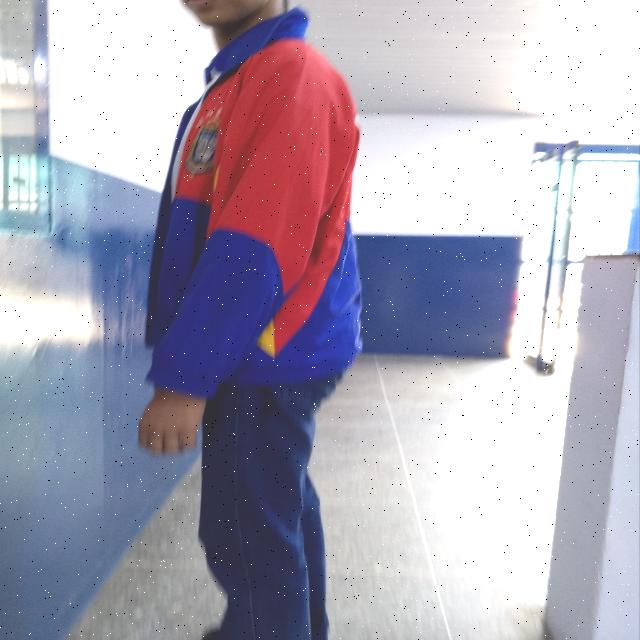chaqueta_unefa: (141, 4, 364, 397)
pantalon_oscuro: (197, 366, 353, 640)
